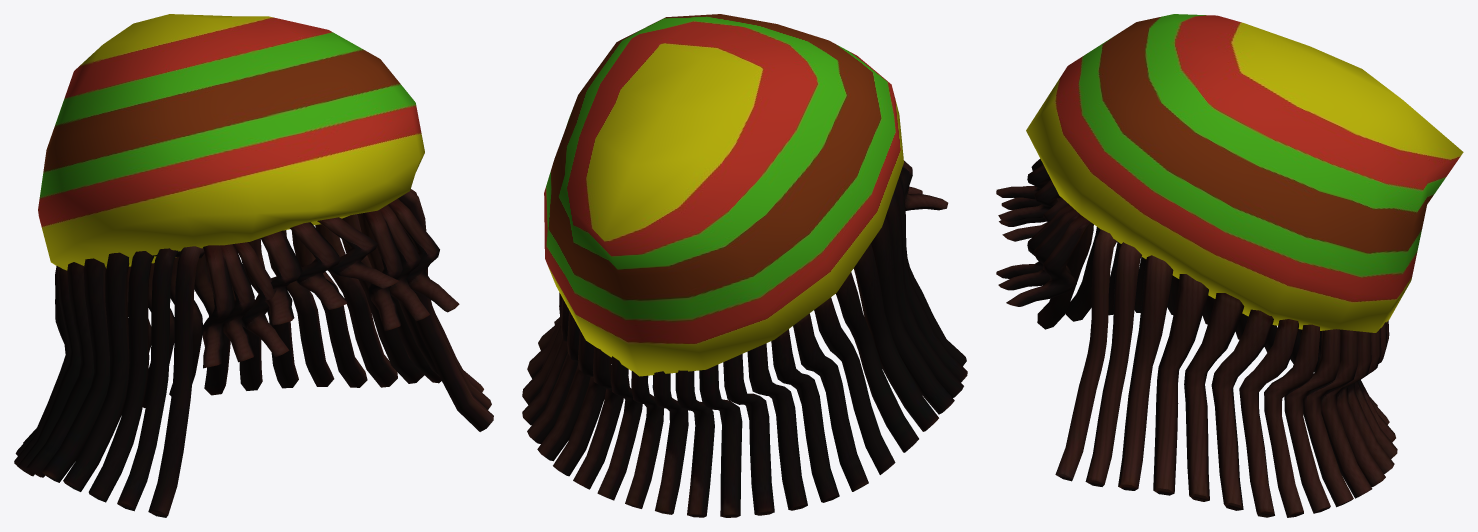
File: rasta_beanie.glb
3 renders of one model, left to right at view 1: azimuth 30°, elevation 25°; view 2: azimuth 150°, elevation 25°; view 3: azimuth 270°, elevation 25°, orthographic. The views are drawn at different scales.
Visible parts, largest first — view 1: Cube, BézierCurve, BézierCurve.002; view 2: Cube, BézierCurve, BézierCurve.002; view 3: Cube, BézierCurve, BézierCurve.002.
Boxes of the visible parts, bbox=[...] form: Cube: bbox=[38, 14, 424, 270]; BézierCurve: bbox=[14, 189, 493, 517]; BézierCurve.002: bbox=[202, 198, 459, 368]; Cube: bbox=[544, 14, 903, 376]; BézierCurve: bbox=[522, 173, 967, 517]; BézierCurve.002: bbox=[900, 160, 948, 210]; Cube: bbox=[1026, 14, 1463, 332]; BézierCurve: bbox=[1037, 223, 1397, 517]; BézierCurve.002: bbox=[996, 159, 1091, 306].
Size of the model in its own units: 0.7896 by 0.7949 by 0.8106.
Materials: 3 (3 with a texture image).
